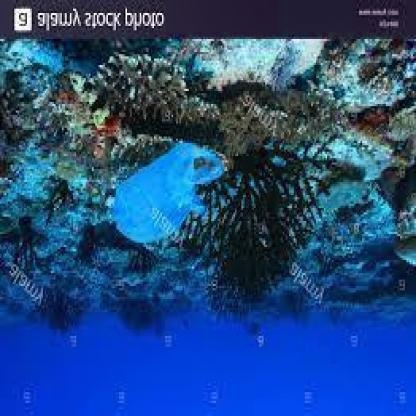pbag: (110, 139, 226, 247)
